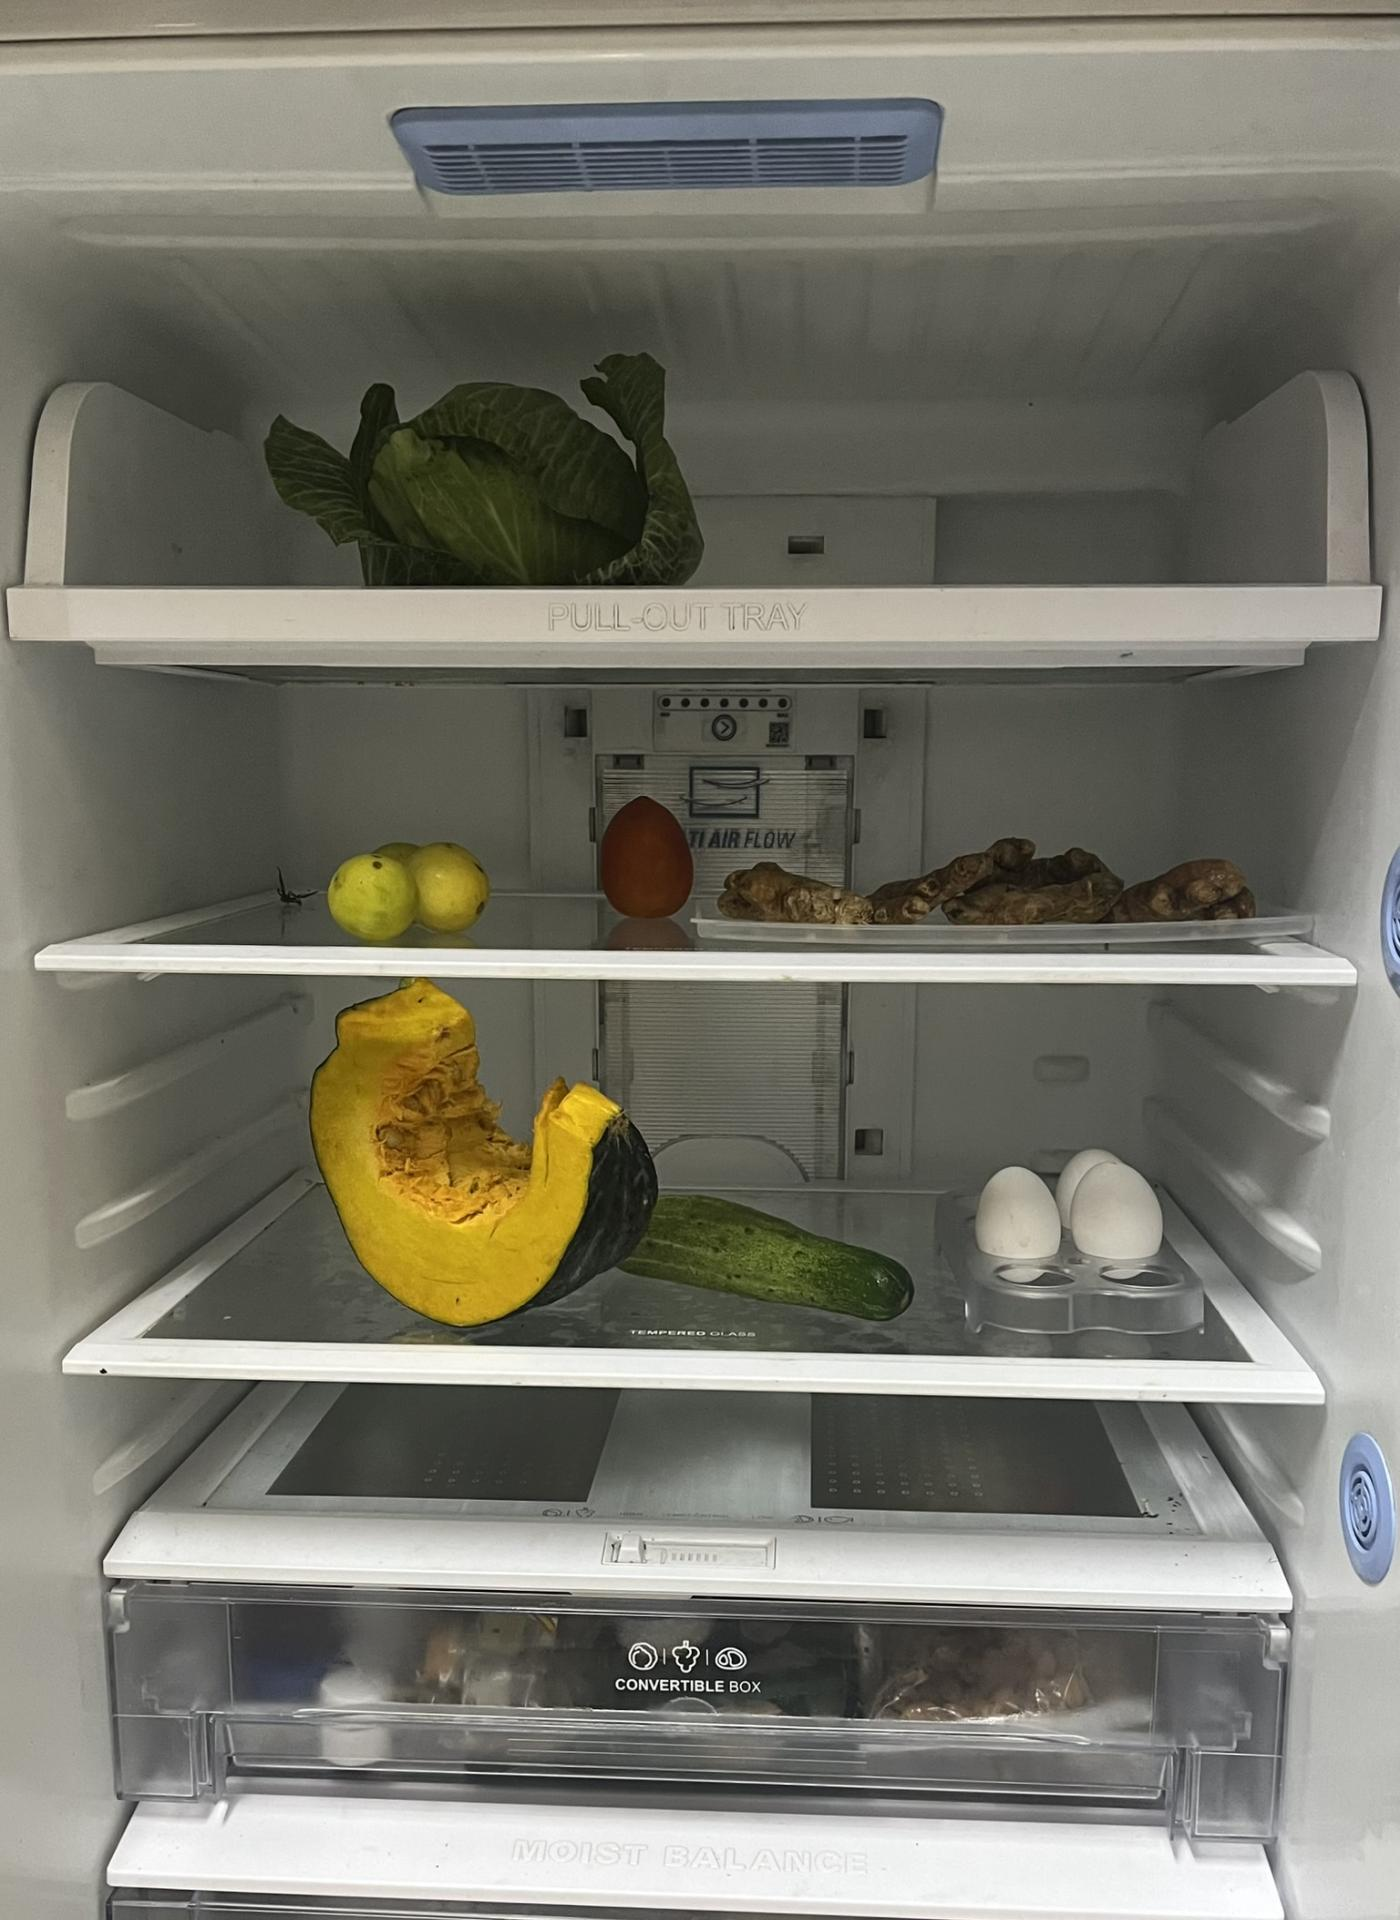cabbage: (239, 353, 704, 580)
cucumber: (640, 1193, 926, 1334)
egg: (977, 1136, 1154, 1283)
ginger: (713, 836, 1272, 915)
lemon: (307, 836, 491, 933)
pumpkin: (303, 990, 659, 1334)
tomato: (584, 795, 695, 918)
